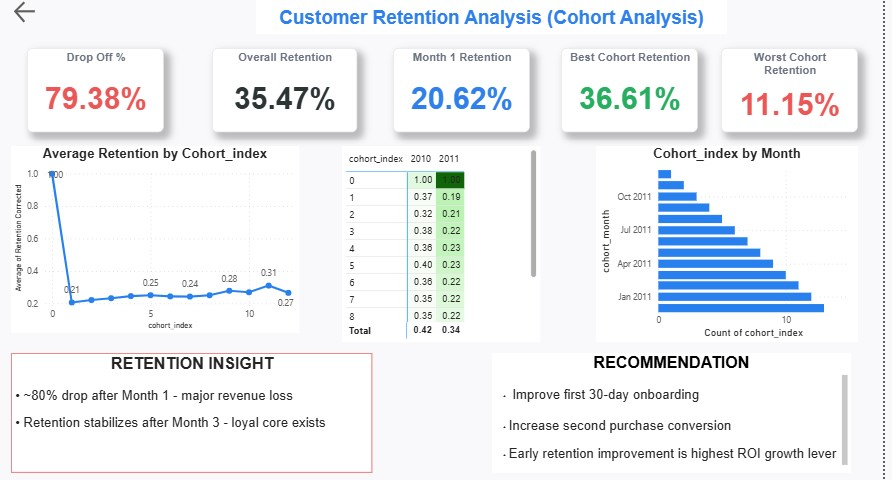

Layout of this report page (visuals, bound fields, positions):
{"tool":"powerbi","page":{"name":"Cohort Analysis","canvas":[1280,720],"ordinal":2},"visuals":[{"type":"card","title":"Overall Retention","fields":{"Values":["Measure.Retention Rate"]},"box":[333.2,97.4,204.7,118.6],"z":0},{"type":"card","title":"Drop Off %","fields":{"Values":["Measure.Drop-off %"]},"box":[72,97.4,193.4,118.6],"z":1000},{"type":"textbox","box":[395.3,16.9,664.9,60.7],"z":2000},{"type":"card","title":"Month 1 Retention","fields":{"Values":["Measure.Month 1 Retention"]},"box":[588.7,97.4,193.4,118.6],"z":3000},{"type":"pivotTable","fields":{"Values":["Avg(cohort_retention.Retention Corrected)"],"Rows":["cohort_retention.cohort_index"],"Columns":["cohort_retention.cohort_month.Variation.Date Hierarchy.Year"]},"box":[516.7,235.8,279.5,276.7],"z":4000},{"type":"lineChart","title":"Average  Retention by Cohort_index","fields":{"Y":["Avg(cohort_retention.Retention Corrected)"],"Category":["cohort_retention.cohort_index"]},"box":[49.4,235.8,406.6,264],"z":5000},{"type":"card","title":"Best Cohort Retention","fields":{"Values":["Measure.Best Cohort Retention"]},"box":[825.9,97.4,193.4,118.6],"z":6000},{"type":"card","title":"Worst Cohort Retention","fields":{"Values":["Measure.Worst Cohort Retention"]},"box":[1051.8,97.4,193.4,118.6],"z":7000},{"type":"textbox","title":"RETENTION INSIGHT","box":[49.4,528,509.6,169.4],"z":8000},{"type":"barChart","title":"Cohort_index by Month","fields":{"Category":["cohort_retention.cohort_month"],"Y":["CountNonNull(cohort_retention.cohort_index)"]},"box":[875.3,235.8,369.9,276.7],"z":9000},{"type":"actionButton","box":[49.4,26.8,88.9,39.5],"z":10000},{"type":"textbox","title":"RECOMMENDATION","box":[728.5,528,506.8,169.4],"z":10001}]}

Visuals, with their boxes on the page's 1280x720 design canvas (x1, y1, x2, y2). These are canvas units, not pixel positions in the 892x480 screenshot, which may show the page scaled, cropped or inside an application window:
"Overall Retention" card: (left=333, top=97, right=538, bottom=216)
"Drop Off %" card: (left=72, top=97, right=265, bottom=216)
textbox: (left=395, top=17, right=1060, bottom=78)
"Month 1 Retention" card: (left=589, top=97, right=782, bottom=216)
pivotTable - Avg(cohort_retention.Retention Corrected) x cohort_retention.cohort_index: (left=517, top=236, right=796, bottom=512)
"Average  Retention by Cohort_index" lineChart: (left=49, top=236, right=456, bottom=500)
"Best Cohort Retention" card: (left=826, top=97, right=1019, bottom=216)
"Worst Cohort Retention" card: (left=1052, top=97, right=1245, bottom=216)
"RETENTION INSIGHT" textbox: (left=49, top=528, right=559, bottom=697)
"Cohort_index by Month" barChart: (left=875, top=236, right=1245, bottom=512)
actionButton: (left=49, top=27, right=138, bottom=66)
"RECOMMENDATION" textbox: (left=728, top=528, right=1235, bottom=697)
